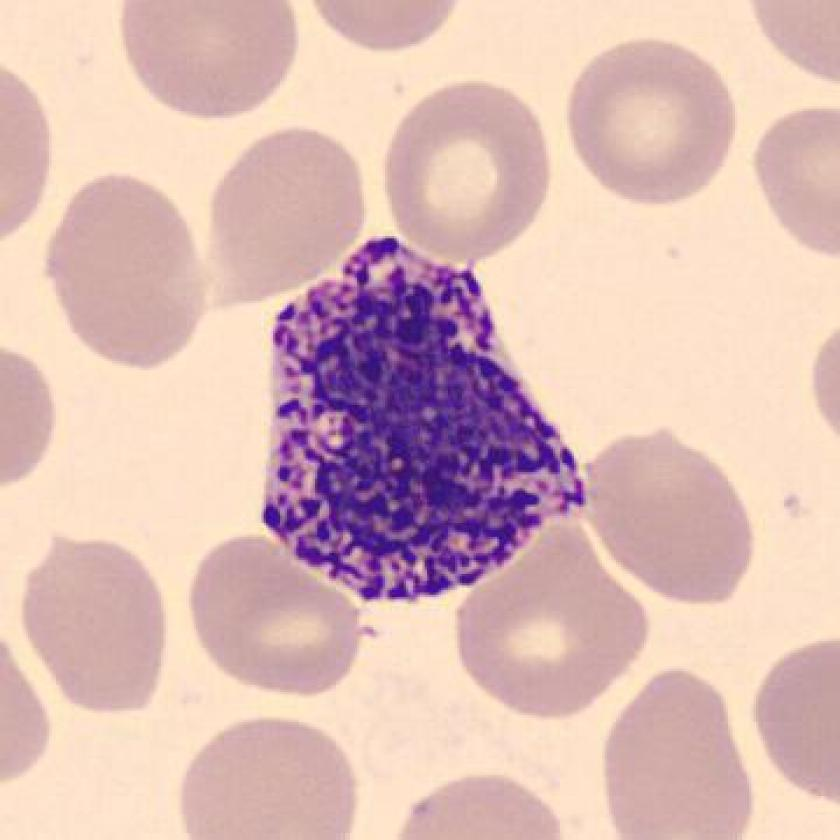basophil: (251, 235, 596, 607)
